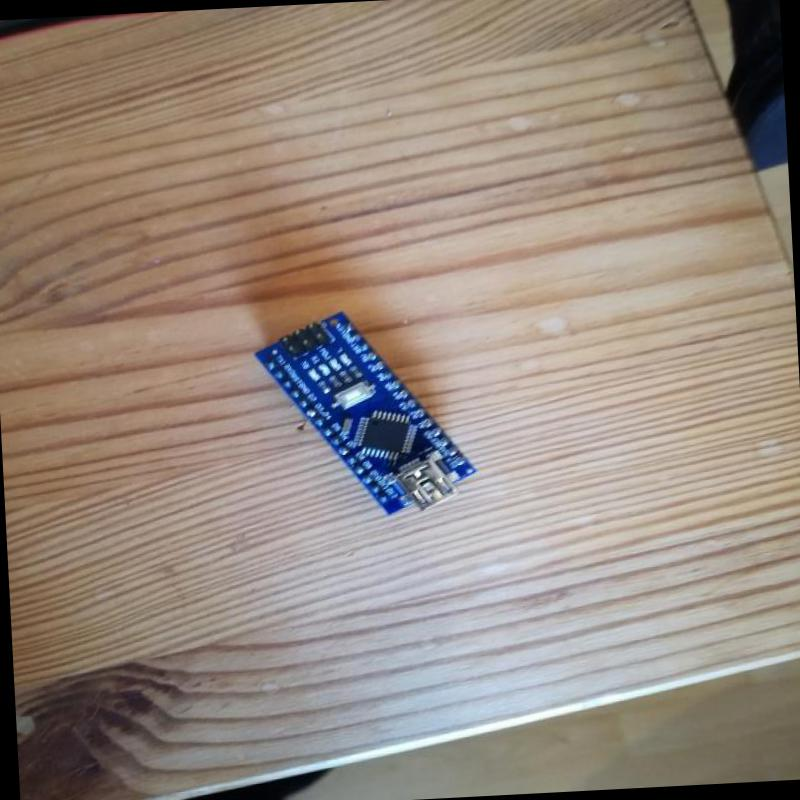Arduino_Nano: (250, 301, 490, 534)
